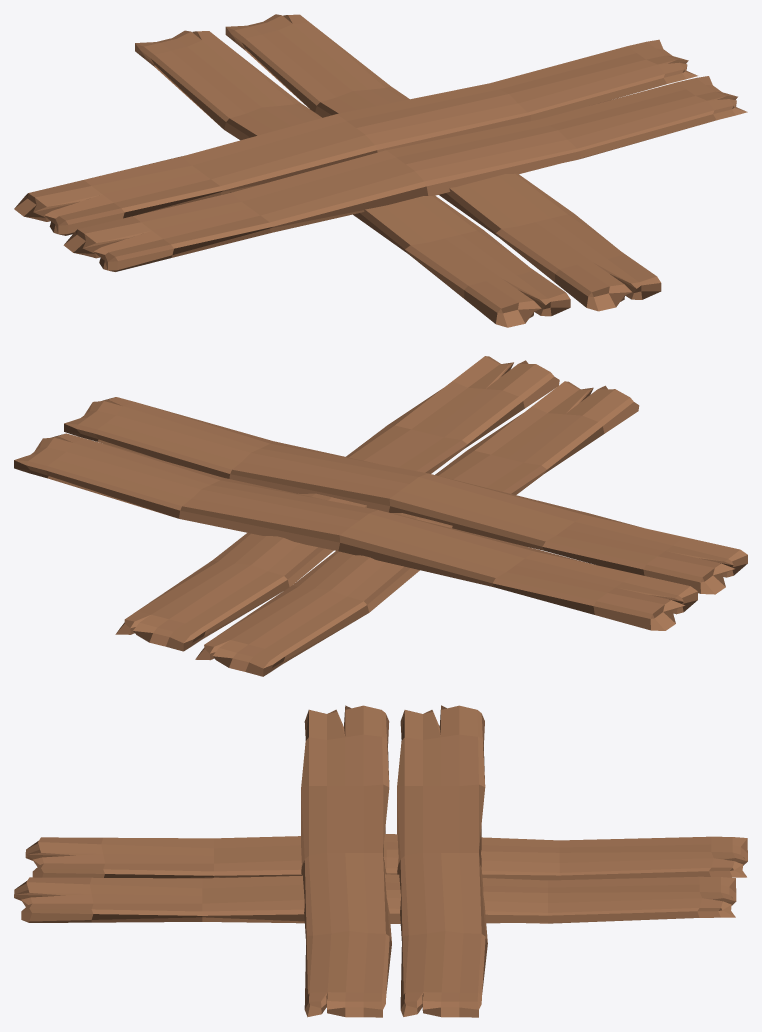
The model's file is taboas.fbx.
The picture shows the model from 3 angles, top to bottom: view 1: azimuth 30°, elevation 25°; view 2: azimuth 150°, elevation 25°; view 3: azimuth 270°, elevation 25°; orthographic projection. The views are drawn at different scales.
Visible parts, largest first — view 1: LP Plank 1m A.003, LP Plank 1m A.002, LP Plank 1m A.001, LP Plank 1m A; view 2: LP Plank 1m A.002, LP Plank 1m A.003, LP Plank 1m A.001, LP Plank 1m A; view 3: LP Plank 1m A.002, LP Plank 1m A.003, LP Plank 1m A.001, LP Plank 1m A.
Boxes of the visible parts, bbox=[...] form: LP Plank 1m A.003: bbox=[63, 76, 747, 271]; LP Plank 1m A.002: bbox=[14, 39, 697, 235]; LP Plank 1m A.001: bbox=[225, 14, 661, 311]; LP Plank 1m A: bbox=[135, 30, 570, 327]; LP Plank 1m A.002: bbox=[14, 433, 697, 630]; LP Plank 1m A.003: bbox=[64, 397, 747, 594]; LP Plank 1m A.001: bbox=[115, 356, 559, 651]; LP Plank 1m A: bbox=[195, 381, 639, 676]; LP Plank 1m A.002: bbox=[397, 705, 487, 1017]; LP Plank 1m A.003: bbox=[301, 705, 391, 1017]; LP Plank 1m A.001: bbox=[14, 874, 736, 923]; LP Plank 1m A: bbox=[25, 834, 747, 880].
Bounding box in the file's own units: 200 × 9.84 × 203.
